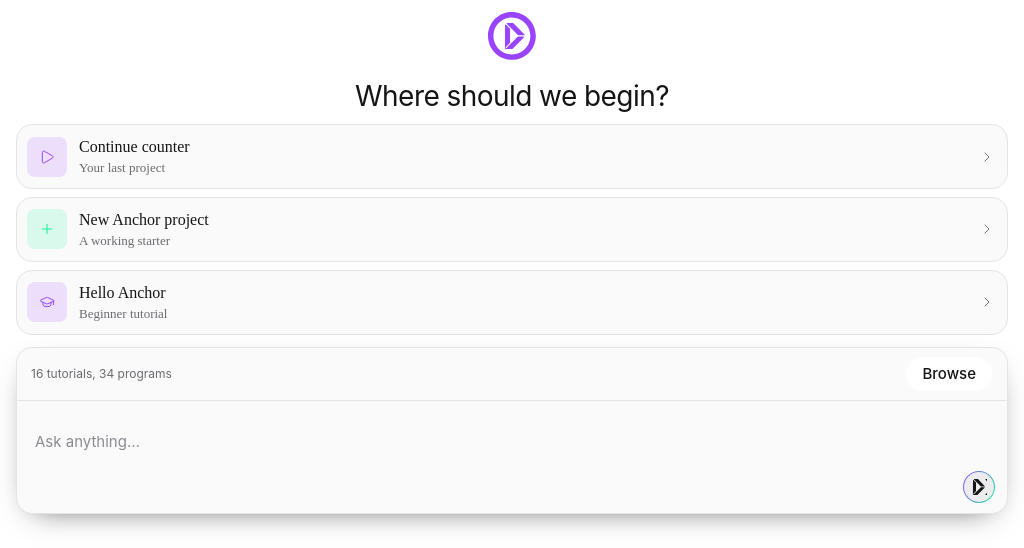
Test: disables a quick start while its promise runs
The width and height of the screenshot is (1024, 548).
What coordinates should you click on to do the following:
click the button "Hello Anchor Beginner tutorial"
I would click on:
 (47, 302)
Its box is [16, 270, 1008, 335].
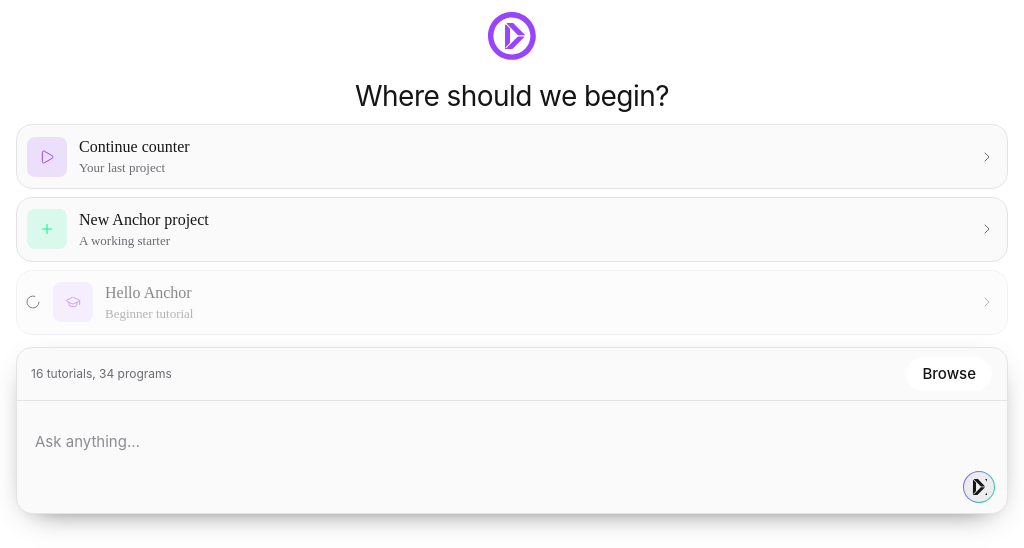
Expected: the button "Hello Anchor Beginner tutorial" is disabled
What coordinates should you click on to do the following:
click the button "Hello Anchor Beginner tutorial"
I would click on:
 (73, 302)
Its box is [16, 270, 1008, 335].
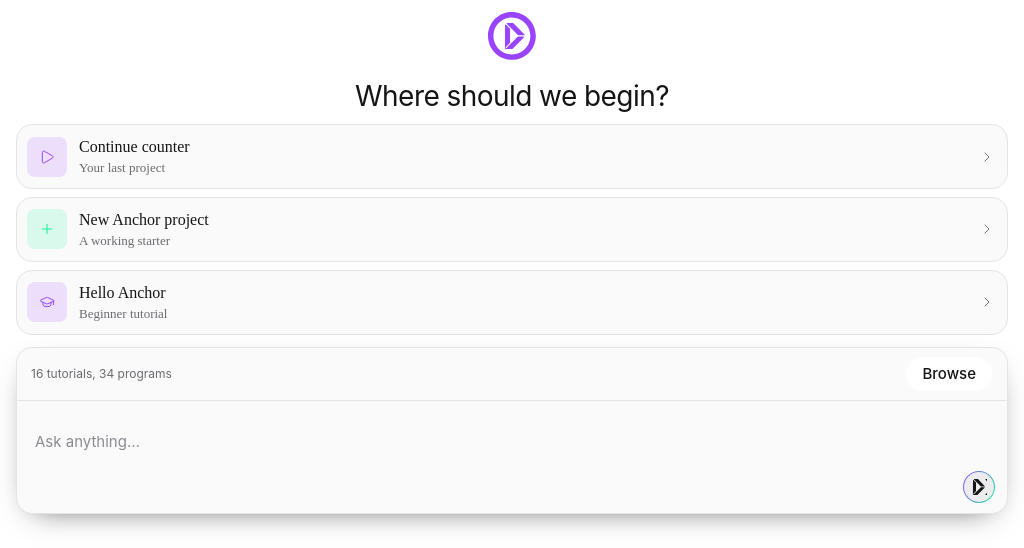
Expected: the button "Hello Anchor Beginner tutorial" is enabled, [16, 270, 1008, 335]
